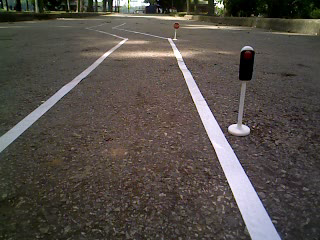Red: (235, 45, 256, 84)
